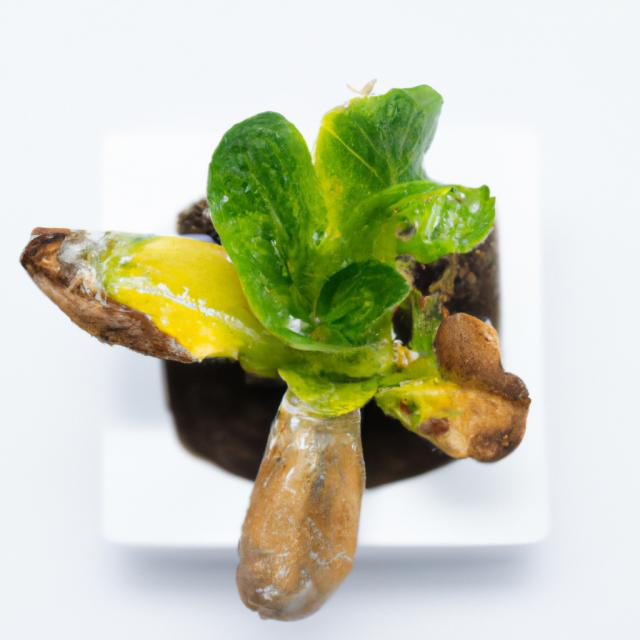-K: (12, 77, 540, 630)
